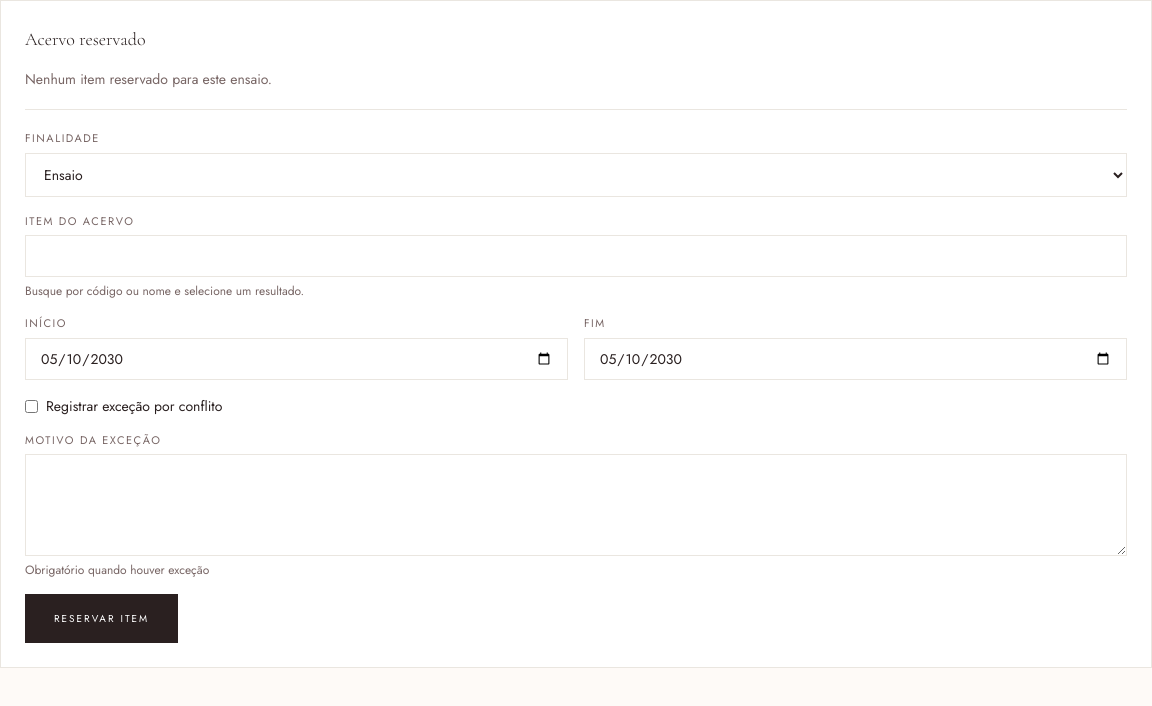
shoot inventory reservations › selects the last search result on ArrowUp before any selection
Type "CL" into the dropdown labelled "Item do acervo" at (576, 256), box [25,235,1127,277]
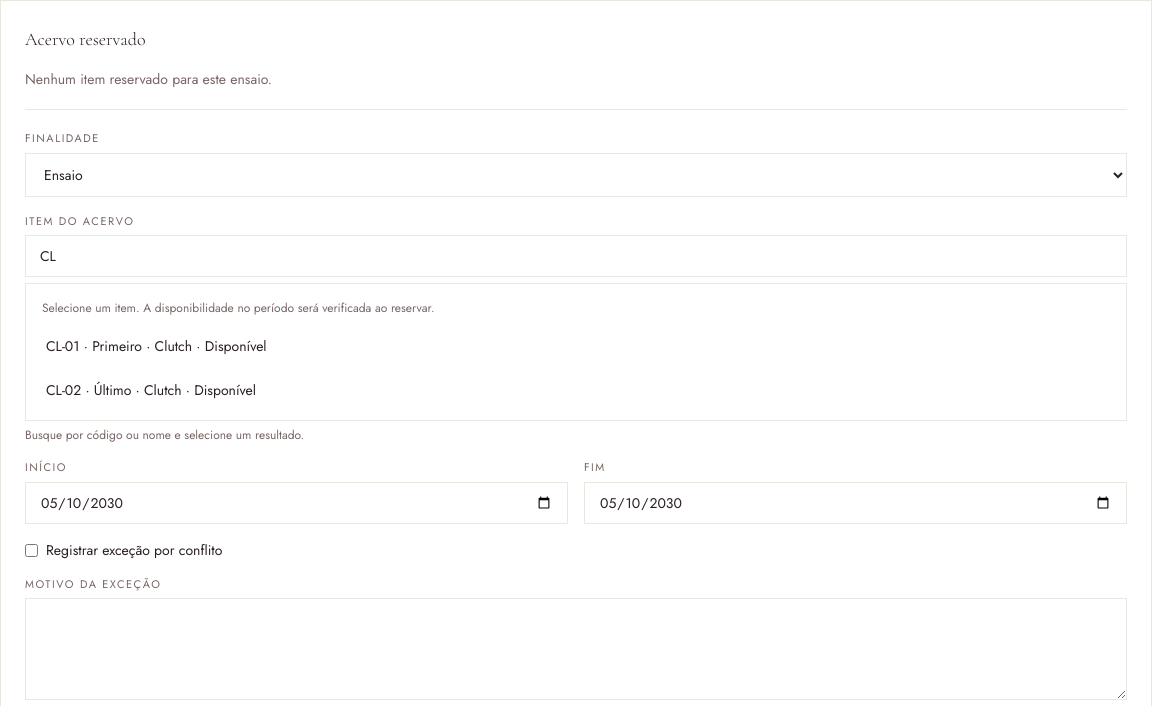
Check: the option "CL-02 · Último · Clutch · Disponível" is shown, box [46,380,256,400]
Press ArrowUp in the dropdown labelled "Item do acervo", box [25,235,1127,277]
Press Enter in the dropdown labelled "Item do acervo", box [25,235,1127,277]
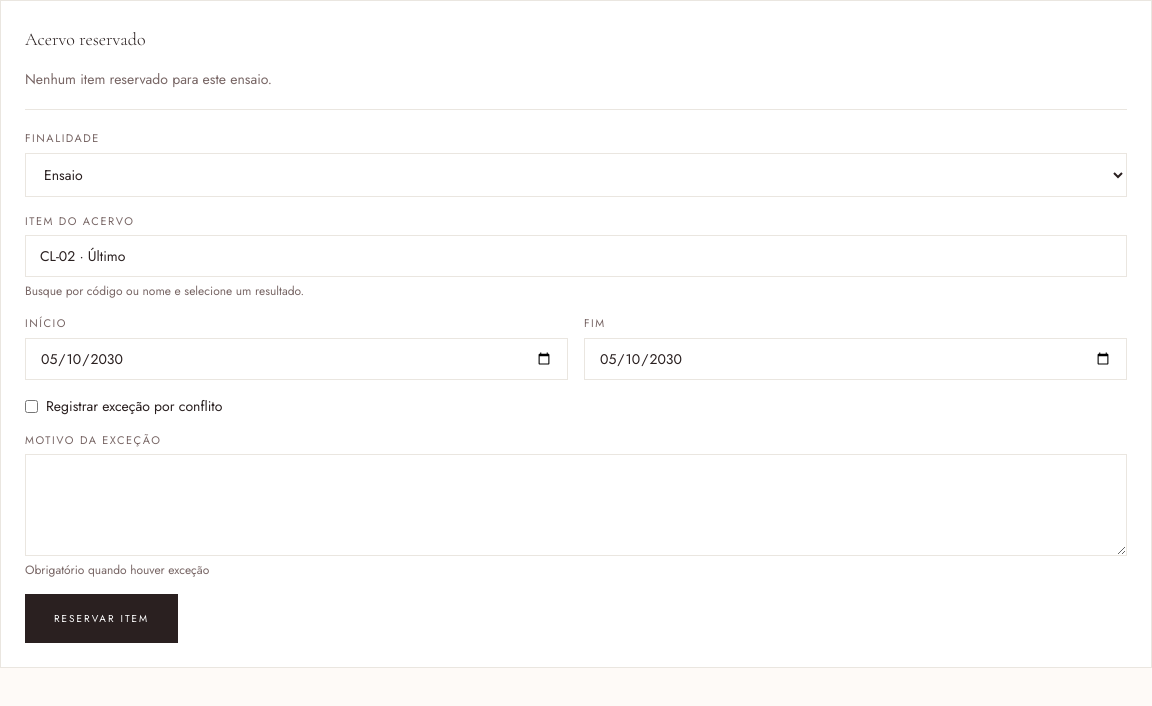
Check: the dropdown labelled "Item do acervo" holds "CL-02 · Último", box [25,235,1127,277]
